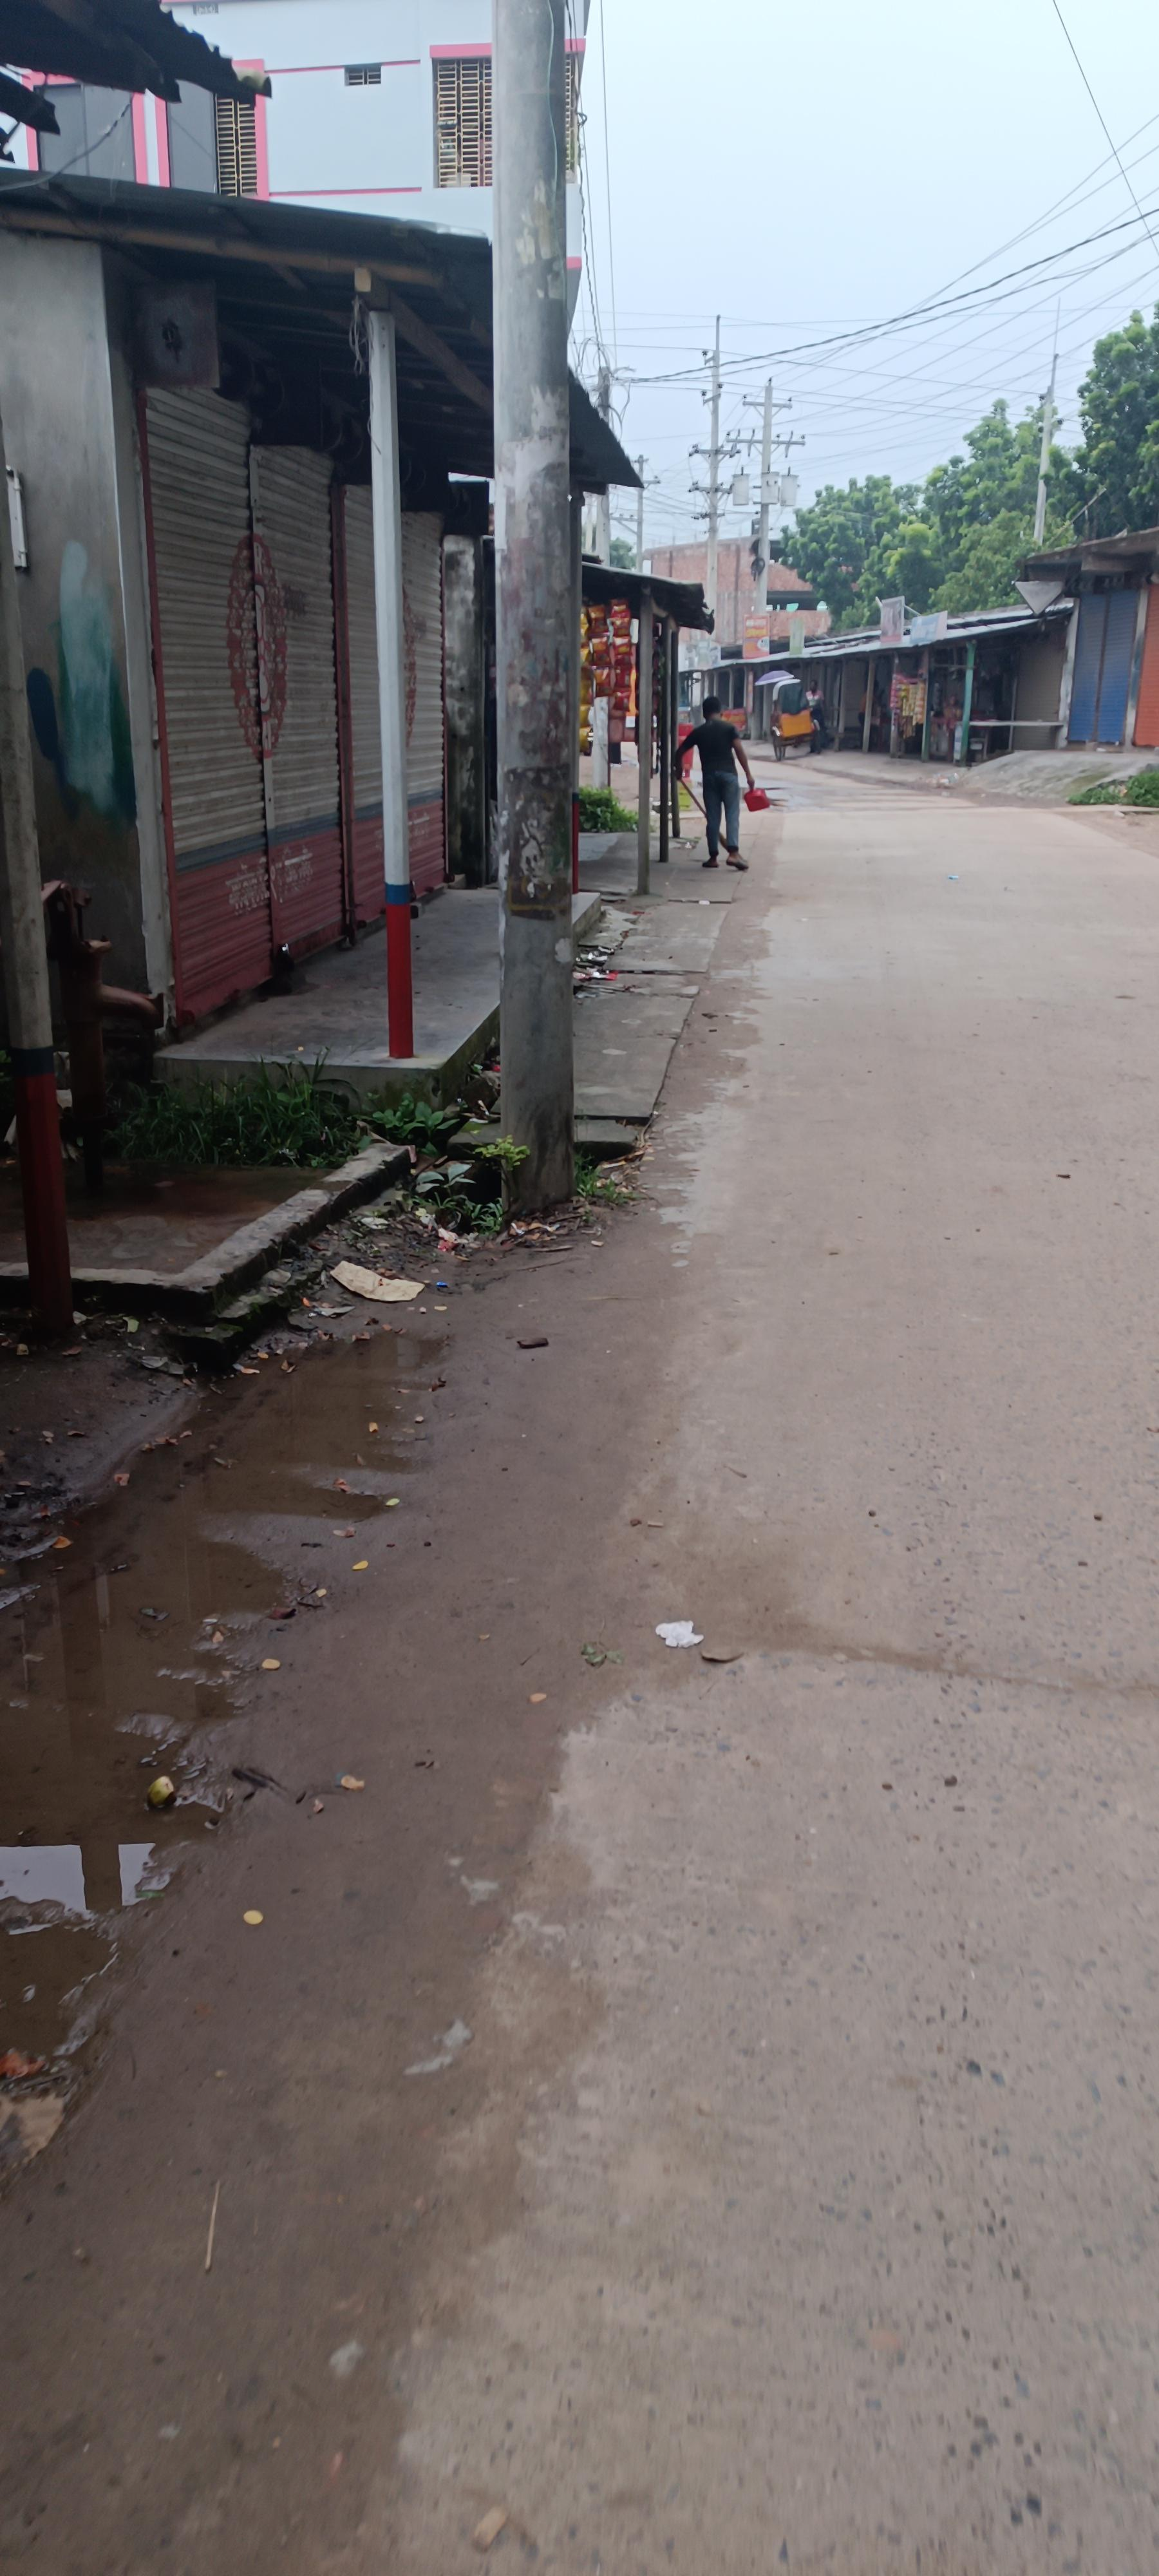Garbage-bin: (675, 697, 755, 869)
Light-pole: (489, 3, 578, 1221)
Potted-plant: (20, 1314, 451, 1925)
